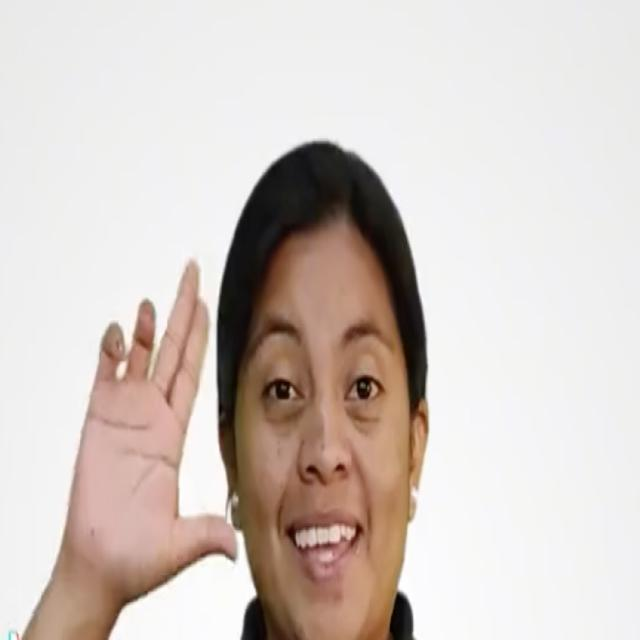hola: (59, 255, 241, 585)
